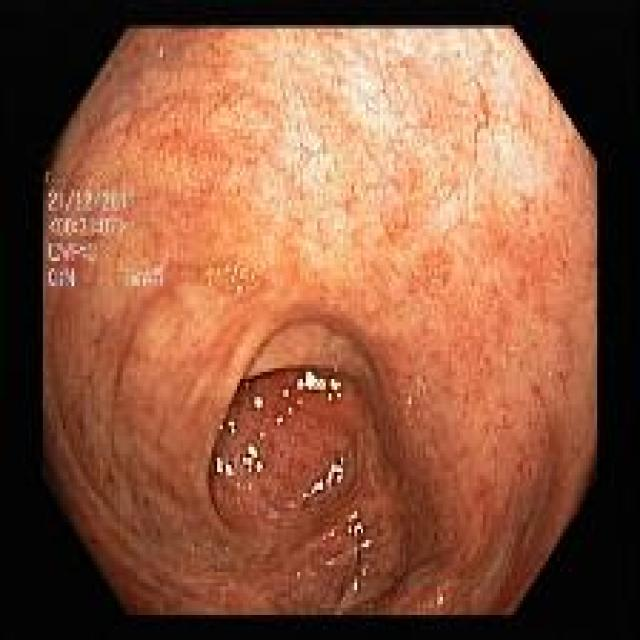ulcerative-colitis: (44, 28, 596, 615)
